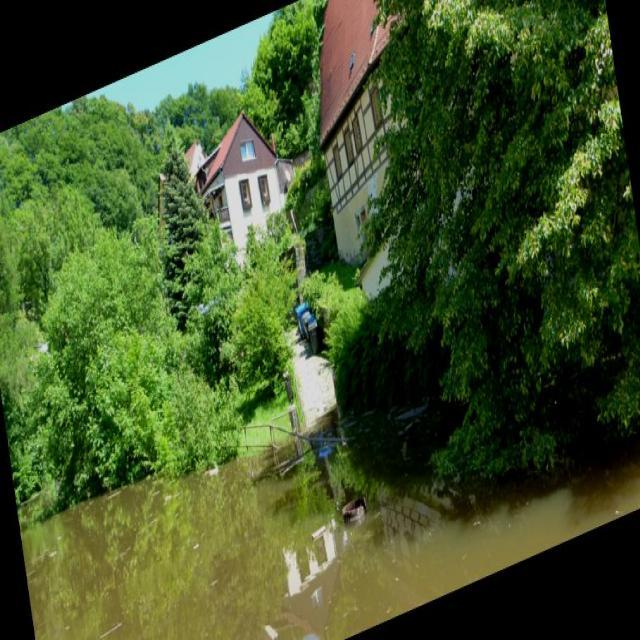flood: (18, 342, 454, 639)
